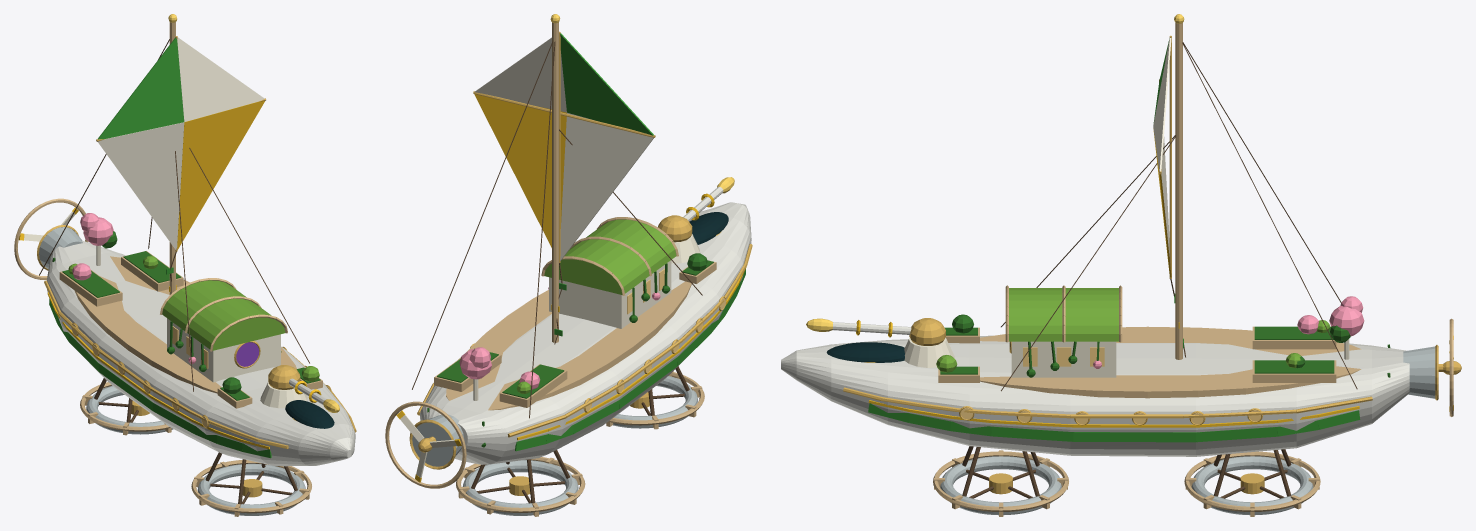
File: frigate.obj
The picture shows the model from 3 angles, left to right: view 1: azimuth 30°, elevation 25°; view 2: azimuth 150°, elevation 25°; view 3: azimuth 270°, elevation 25°; orthographic projection. The views are drawn at different scales.
Parts seen in each view (by area): view 1: frigate; view 2: frigate; view 3: frigate.
Boxes of the visible parts, <box> form: frigate: <box>14,14,356,516</box>; frigate: <box>385,14,752,516</box>; frigate: <box>781,14,1461,516</box>.
Bounding box in the file's own units: 123 × 294 × 380.
Materials: 1 (1 with a texture image).
